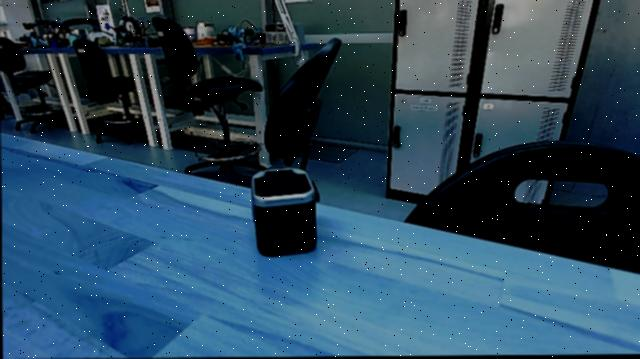adapter: (241, 167, 322, 260)
